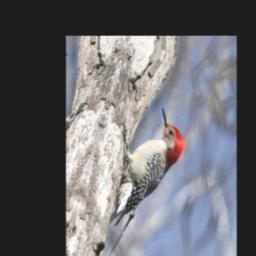Woodpecker: (88, 84, 195, 256)
